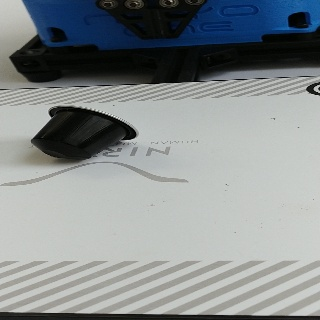capsule_10: (30, 104, 140, 162)
